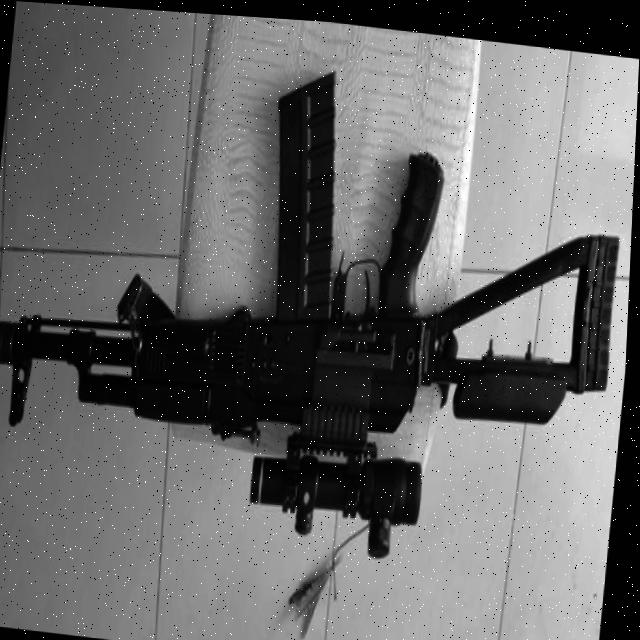firearm: (0, 32, 634, 577)
